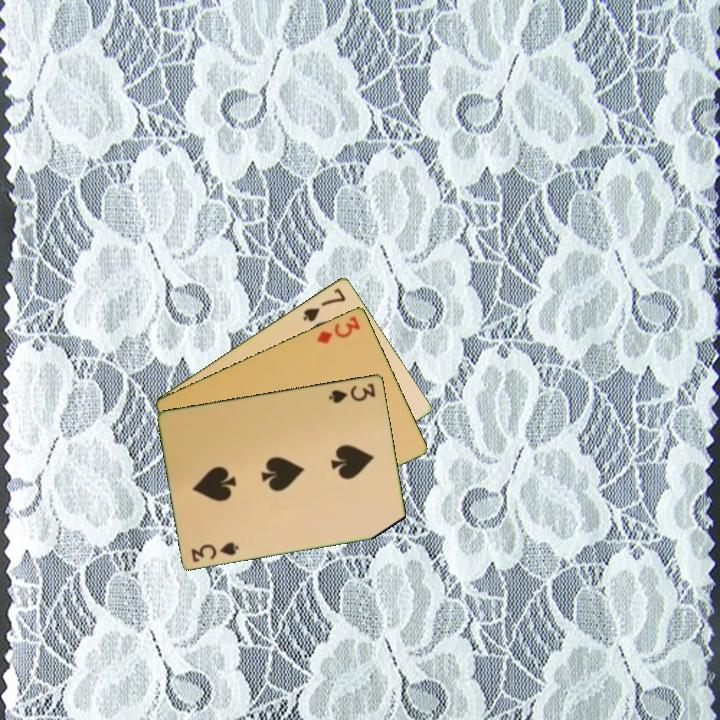3d: (313, 312, 364, 347)
3s: (325, 379, 379, 406), (188, 538, 242, 565)
7s: (299, 284, 348, 324)
